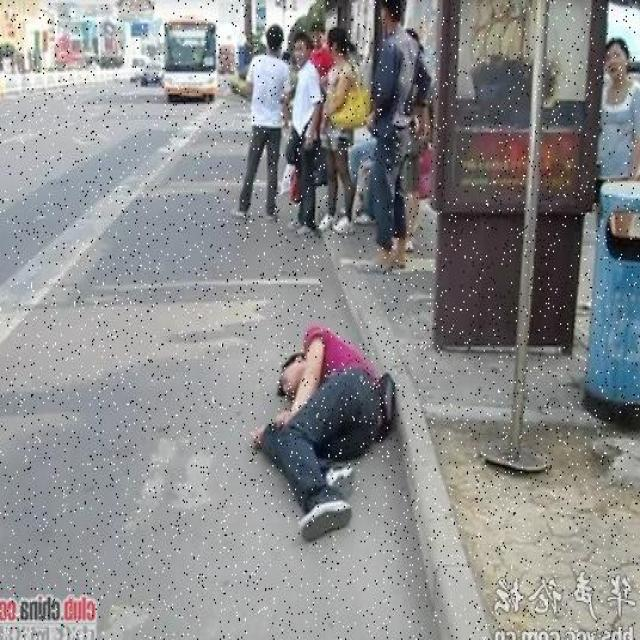fall: (258, 323, 380, 532)
